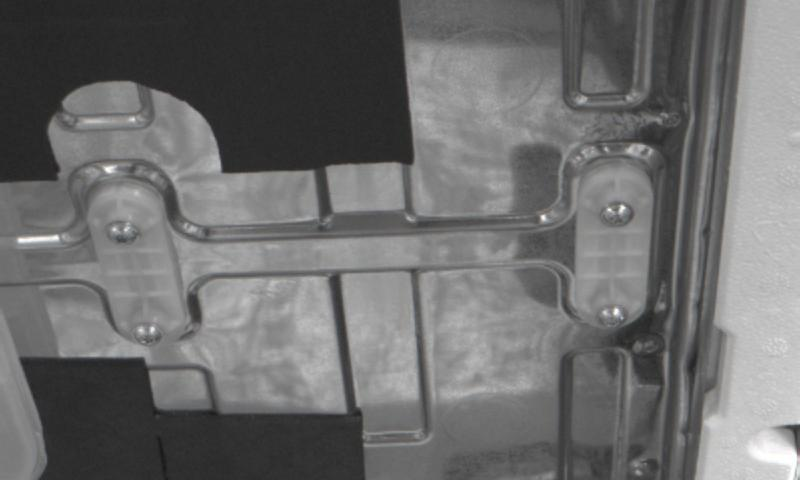vida-ok: (598, 196, 642, 241), (102, 212, 142, 257), (126, 313, 168, 353), (593, 298, 633, 337)
